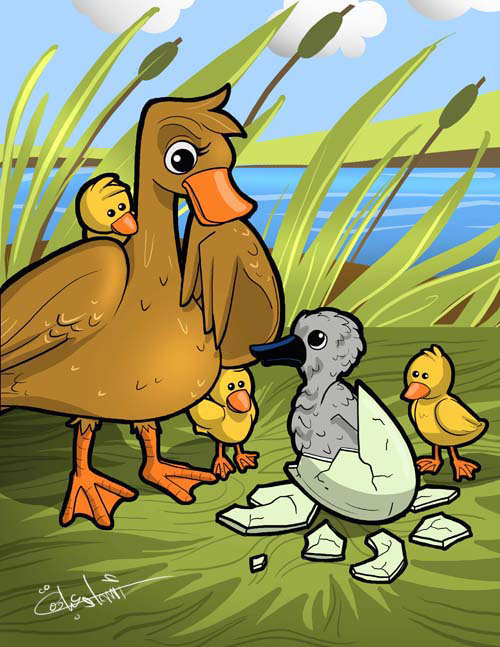bird: (21, 80, 255, 519), (266, 291, 385, 486), (398, 343, 490, 472), (198, 347, 267, 487), (67, 180, 148, 240)
